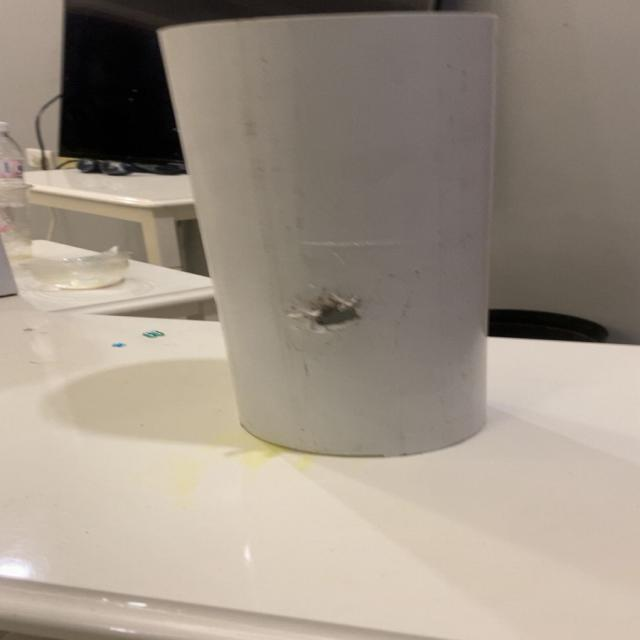Hole: (287, 287, 379, 335)
